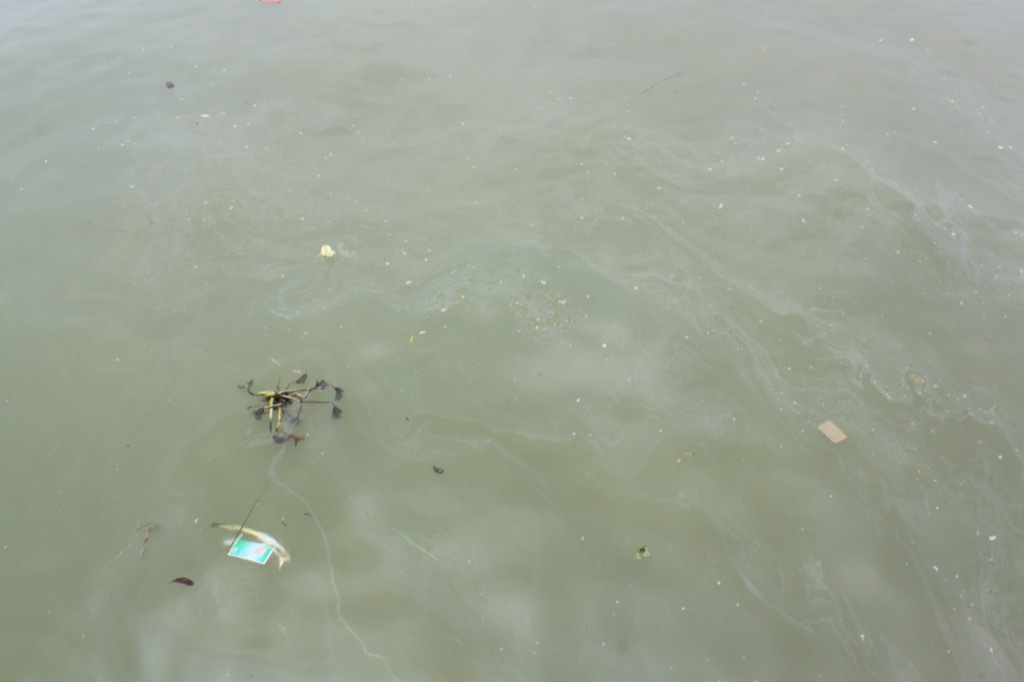organic: (227, 355, 348, 452), (352, 498, 448, 569), (129, 510, 173, 564), (622, 536, 658, 571), (167, 568, 205, 593), (165, 74, 177, 95)
plastic: (214, 534, 279, 577), (808, 405, 854, 461), (302, 233, 366, 271)
